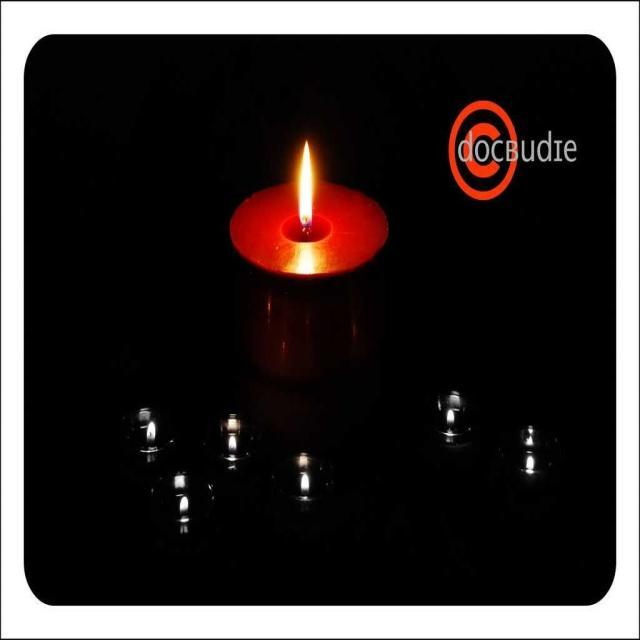Fire: (298, 140, 318, 228)
